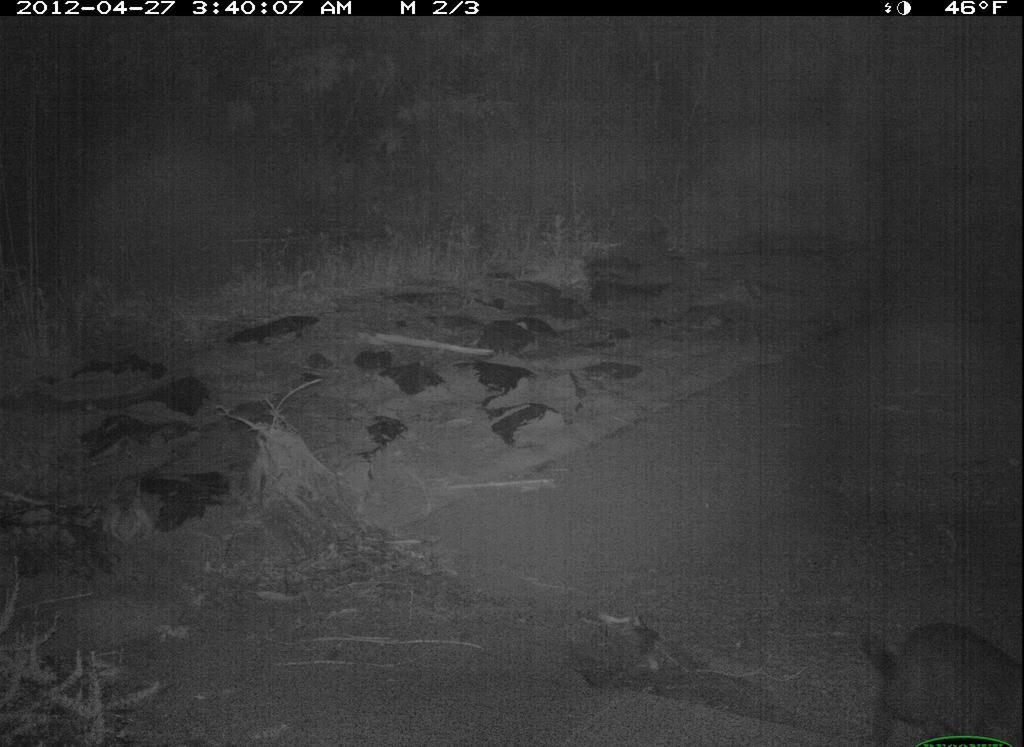cat: (833, 596, 1023, 744)
